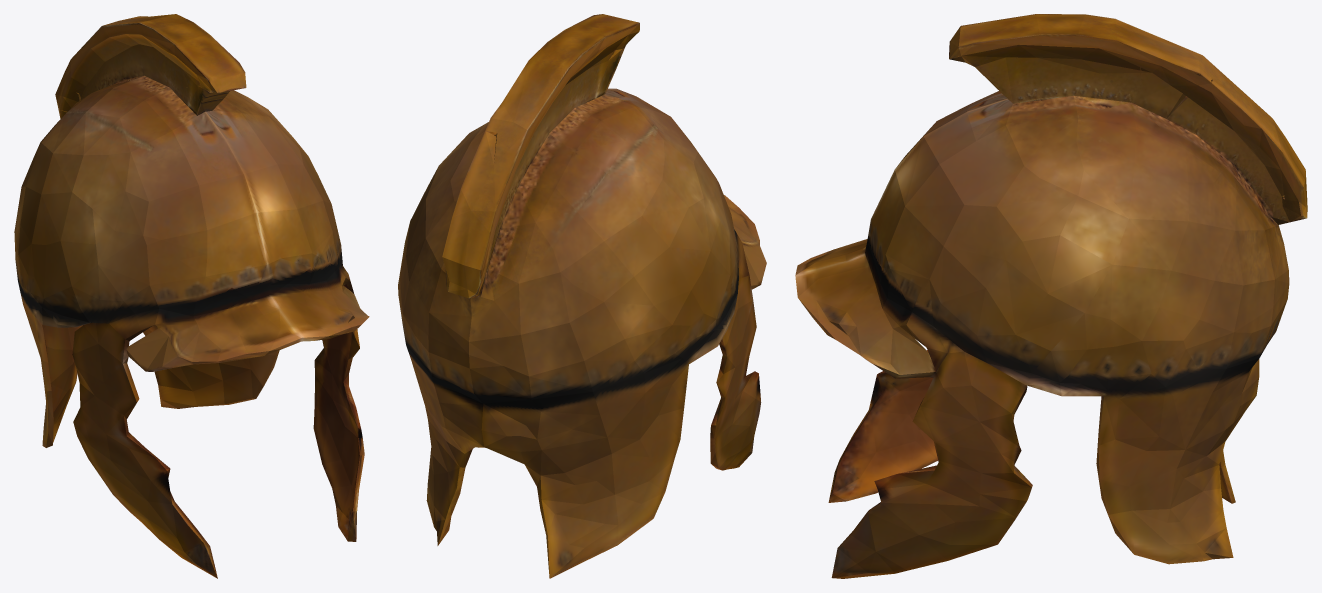
The model's file is helmet.glb.
The picture shows the model from 3 angles, left to right: view 1: azimuth 30°, elevation 25°; view 2: azimuth 150°, elevation 25°; view 3: azimuth 270°, elevation 25°; orthographic projection. The views are drawn at different scales.
Parts seen in each view (by area): view 1: temp; view 2: temp; view 3: temp.
Part boxes in pixels (<box>): temp: <box>14,14,369,578</box>; temp: <box>398,14,766,578</box>; temp: <box>795,14,1307,578</box>.
Size of the model in its own units: 1.28 by 2 by 1.8.
1 material, 1 textured.
